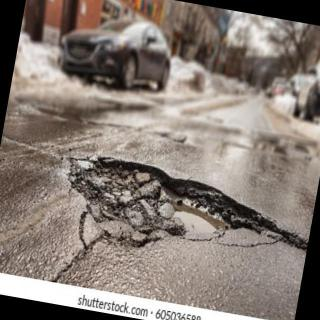pothole: (66, 155, 312, 253)
